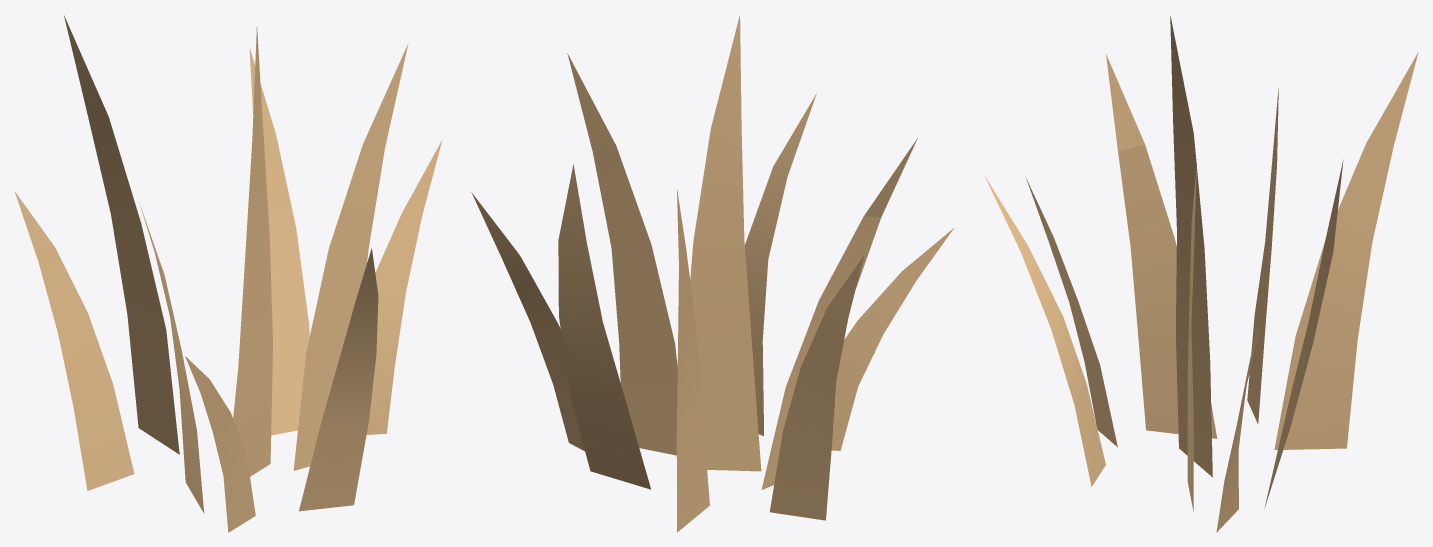
File: Grass_1.fbx
3 views of the same model, side by side, from view 1: azimuth 30°, elevation 25°; view 2: azimuth 150°, elevation 25°; view 3: azimuth 270°, elevation 25° (orthographic). The views are drawn at different scales.
Parts seen in each view (by area): view 1: Grass_1; view 2: Grass_1; view 3: Grass_1.
Part boxes in pixels (x1,y1,x2,y2): Grass_1: (14,15,442,532); Grass_1: (471,15,953,532); Grass_1: (984,15,1418,532).
Size of the model in its own units: 16.09 by 17.11 by 15.11.
1 material, 1 textured.
